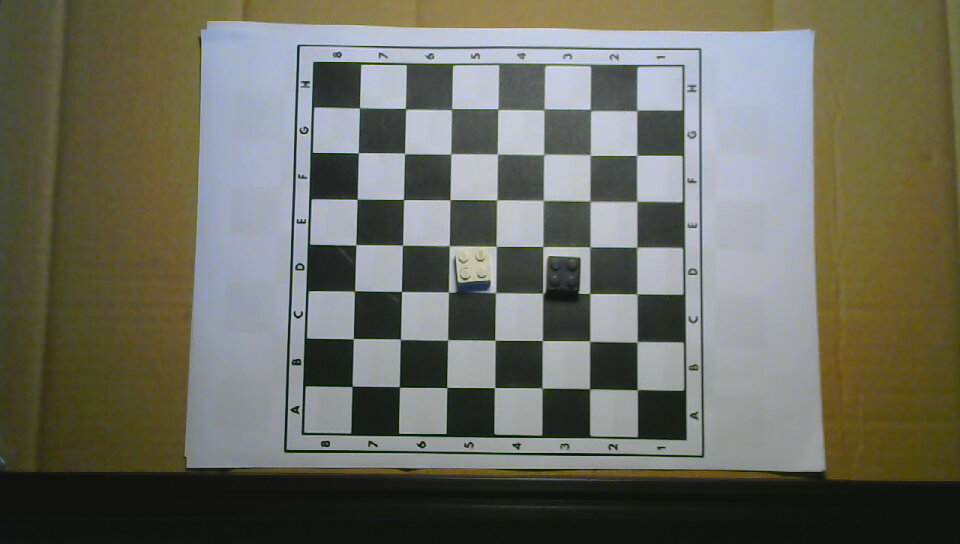bp: (545, 253, 582, 298)
wp: (453, 248, 493, 289)
